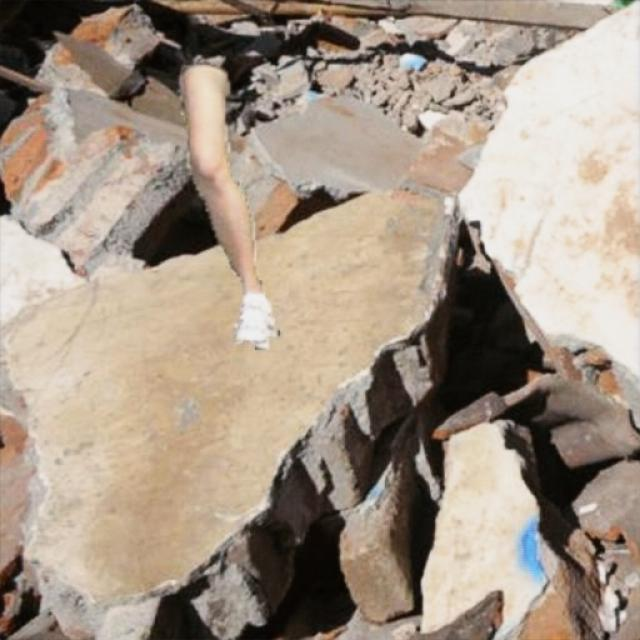Person in Rubble: (178, 62, 278, 348)
